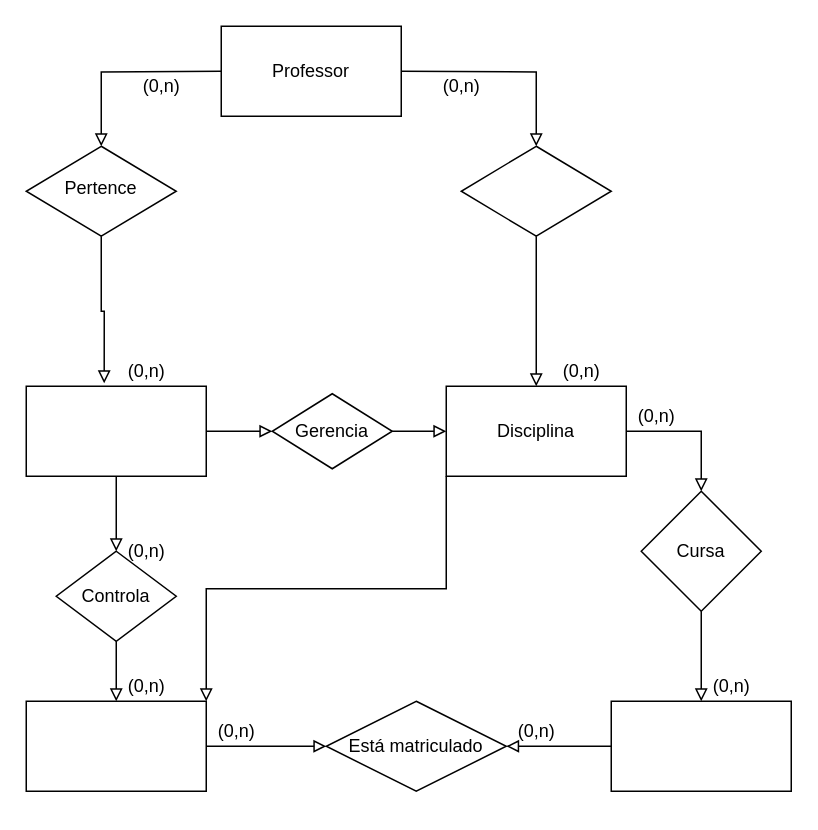
Some shapes in this 818 by 830 pixel diagram are drawn without their labels. Each missing label, with the box of its shape:
Aluno: (610, 700, 791, 791)
Curso: (25, 700, 206, 791)
Departamento: (25, 385, 206, 476)
Ministra: (460, 145, 611, 236)
